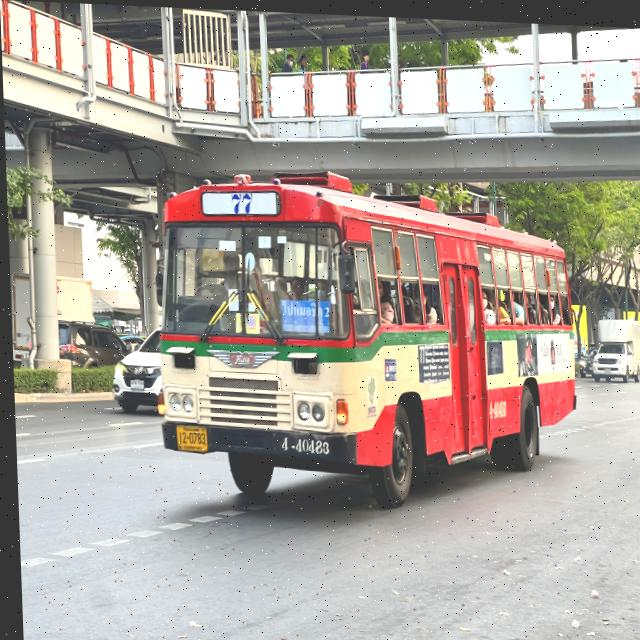BMTA-bus: (135, 147, 585, 526)
Bus-Line-Number: (198, 185, 279, 212)
Destination-Sign-Normal: (280, 294, 332, 335)
